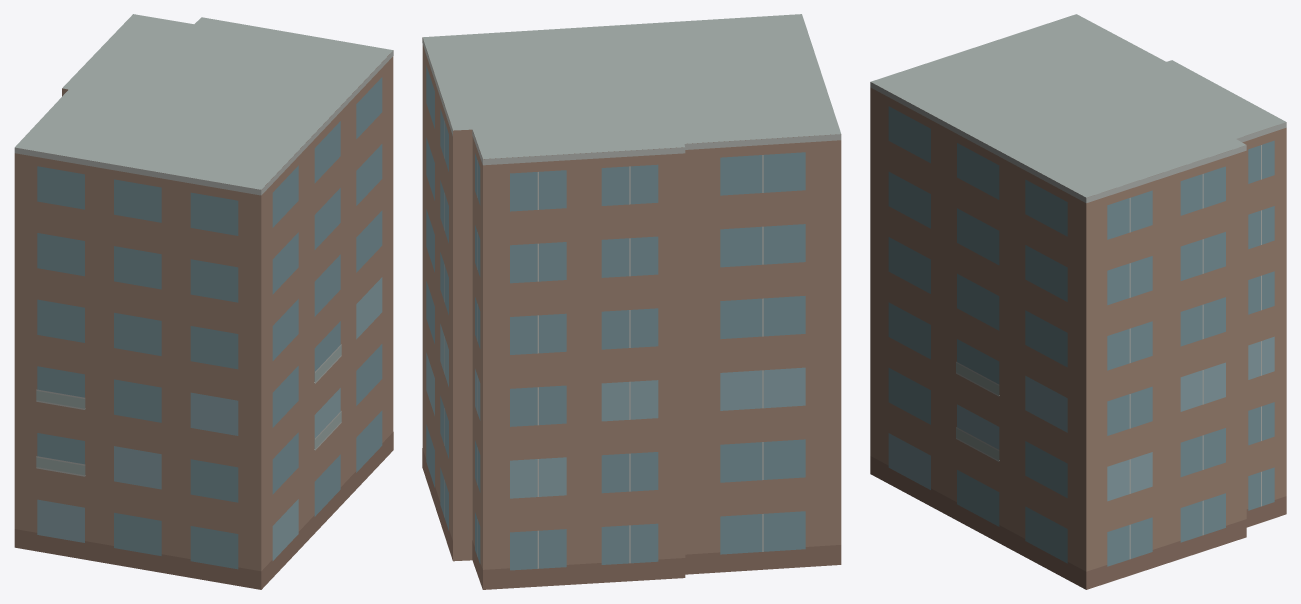
File: survey-upis-32581429.glb
3 views of the same model, side by side, from view 1: azimuth 30°, elevation 25°; view 2: azimuth 150°, elevation 25°; view 3: azimuth 270°, elevation 25° (orthographic). The views are drawn at different scales.
Parts seen in each view (by area): view 1: survey-upis-32581429.tmp; view 2: survey-upis-32581429.tmp; view 3: survey-upis-32581429.tmp.
Boxes of the visible parts, x1,y1,x2,y2 form: survey-upis-32581429.tmp: (14,14,393,589); survey-upis-32581429.tmp: (422,14,841,589); survey-upis-32581429.tmp: (870,14,1286,589).
Size of the model in its own units: 17.18 by 17.1 by 16.45.
